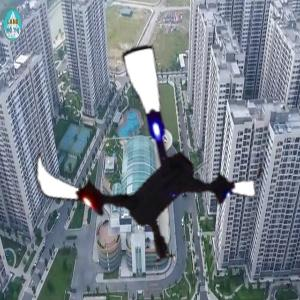drone: (30, 41, 266, 277)
